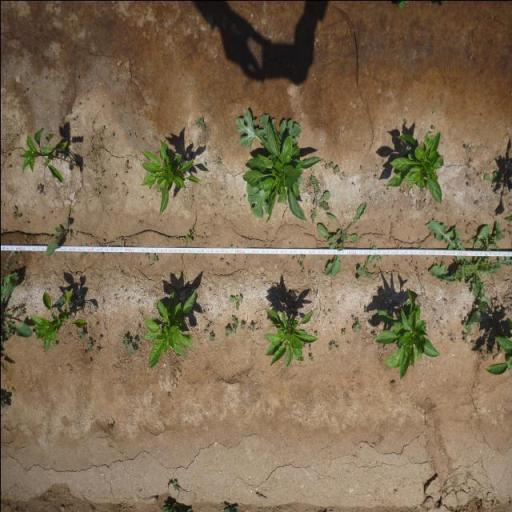plant: (374, 287, 439, 380), (242, 131, 303, 219), (383, 128, 446, 206), (142, 286, 199, 372), (140, 138, 201, 216), (31, 283, 89, 355), (261, 303, 315, 373), (18, 124, 80, 184), (482, 333, 512, 379)
weed: (426, 218, 512, 332), (324, 204, 366, 280), (0, 271, 31, 372), (314, 223, 356, 281), (230, 106, 266, 149), (308, 172, 330, 224), (45, 220, 72, 256), (355, 244, 377, 281), (159, 501, 193, 512), (482, 169, 503, 185), (227, 293, 243, 311), (350, 312, 361, 333), (323, 160, 339, 174), (194, 116, 206, 134), (10, 204, 22, 220), (230, 313, 238, 336), (0, 390, 8, 413), (222, 501, 238, 512), (122, 158, 130, 175), (202, 320, 212, 333), (36, 183, 46, 196), (85, 338, 94, 352), (184, 230, 193, 244), (328, 340, 338, 352), (120, 336, 129, 349), (76, 330, 86, 340), (105, 420, 115, 430), (128, 345, 137, 356), (461, 329, 467, 344), (298, 260, 304, 274), (208, 331, 215, 342), (22, 233, 29, 244), (224, 325, 230, 337), (470, 338, 478, 347), (238, 320, 245, 330), (172, 477, 177, 491), (361, 305, 369, 313), (248, 322, 254, 332), (143, 252, 150, 260), (70, 115, 78, 122), (308, 353, 314, 362), (339, 329, 346, 336), (131, 337, 137, 345), (152, 254, 158, 262), (376, 254, 382, 262), (299, 254, 306, 260), (372, 264, 378, 270), (372, 173, 378, 179), (94, 348, 99, 355), (216, 156, 220, 164), (96, 335, 101, 341), (11, 262, 16, 267), (218, 257, 223, 262), (93, 322, 98, 327), (2, 264, 6, 270), (16, 250, 20, 256), (350, 180, 354, 186), (359, 162, 362, 170), (225, 262, 229, 267), (203, 161, 207, 166), (308, 343, 310, 351), (308, 268, 310, 276), (342, 170, 344, 178), (302, 342, 304, 348), (314, 330, 316, 336), (88, 359, 90, 364), (292, 255, 294, 260), (12, 252, 14, 256)
